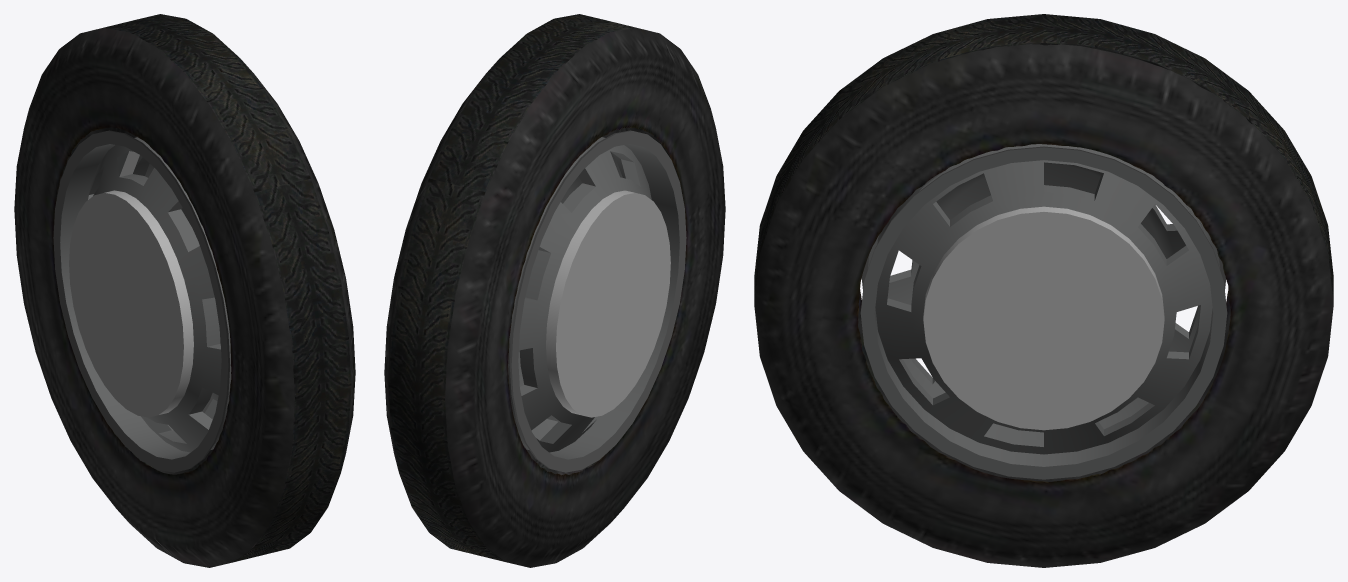
File: volkswagen_wheel.obj
3 views of the same model, side by side, from view 1: azimuth 30°, elevation 25°; view 2: azimuth 150°, elevation 25°; view 3: azimuth 270°, elevation 25° (orthographic). The views are drawn at different scales.
Parts seen in each view (by area): view 1: Object_26_Object_16; view 2: Object_26_Object_16; view 3: Object_26_Object_16.
Boxes of the visible parts, x1,y1,x2,y2 form: Object_26_Object_16: (14, 14, 355, 567); Object_26_Object_16: (384, 14, 725, 567); Object_26_Object_16: (754, 14, 1333, 567).
Size of the model in its own units: 0.4898 by 2 by 2.
3 materials, 3 textured.
